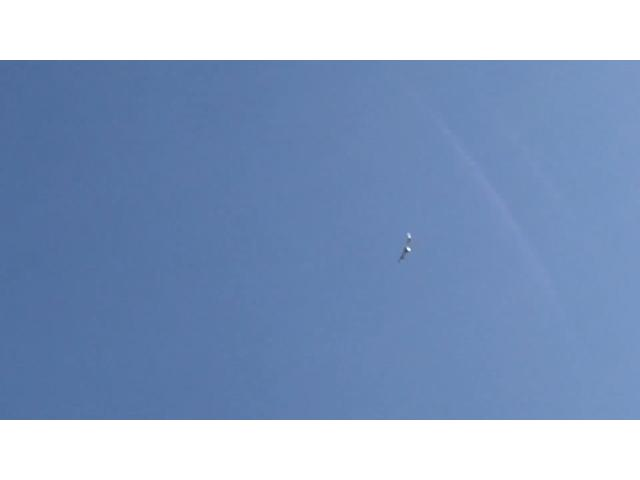Anti-Drone: (388, 218, 428, 272)
